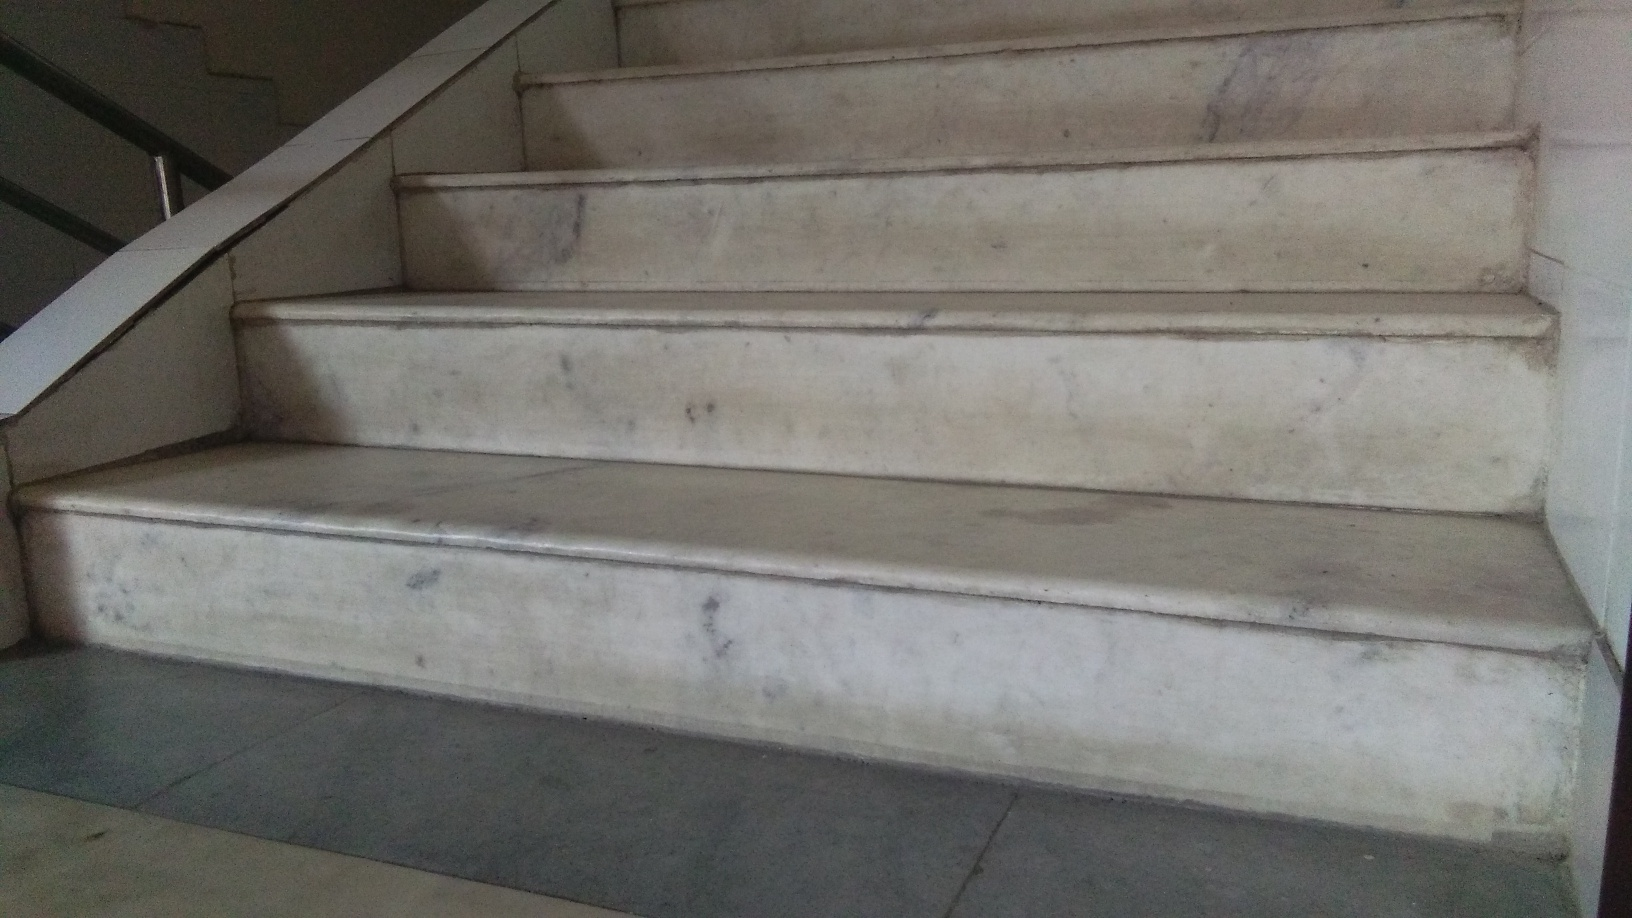stairs_up: (13, 13, 1566, 748)
